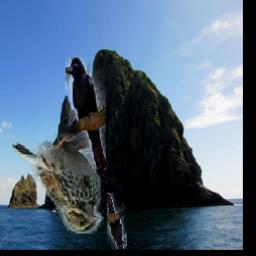Crow: (66, 57, 106, 169), (107, 194, 127, 250)
Sparrow: (11, 134, 103, 234)
